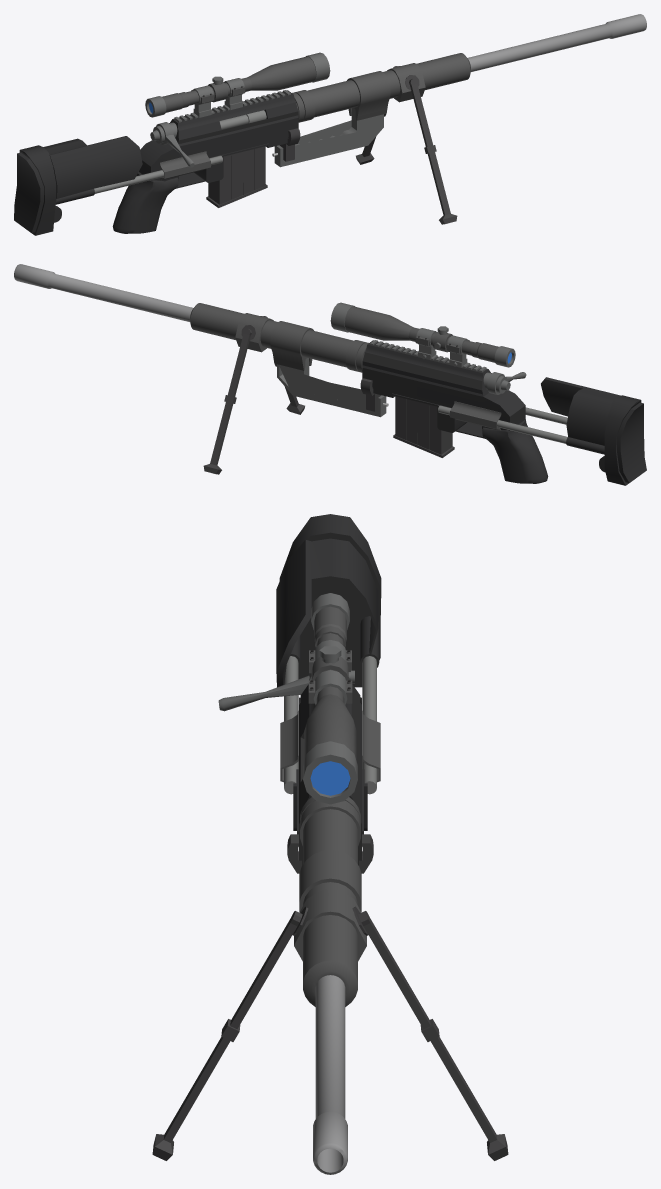
The picture shows the model from 3 angles, top to bottom: view 1: azimuth 30°, elevation 25°; view 2: azimuth 150°, elevation 25°; view 3: azimuth 270°, elevation 25°; orthographic projection. The views are drawn at different scales.
Visible parts, largest first — view 1: M200; view 2: M200; view 3: M200.
Boxes of the visible parts, x1,y1,x2,y2 form: M200: (14, 14, 646, 235); M200: (14, 264, 646, 485); M200: (152, 514, 508, 1174).
Bounding box in the file's own units: 1.45 × 0.3589 × 0.3594.
